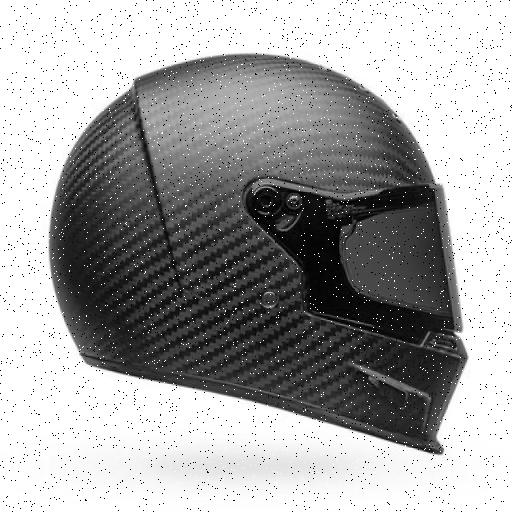Helmet: (37, 58, 459, 471)
